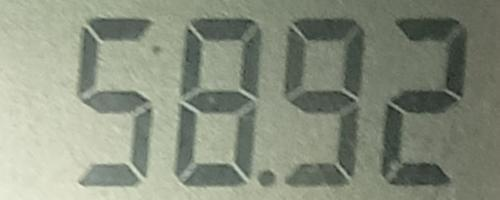.: (255, 167, 278, 190)
